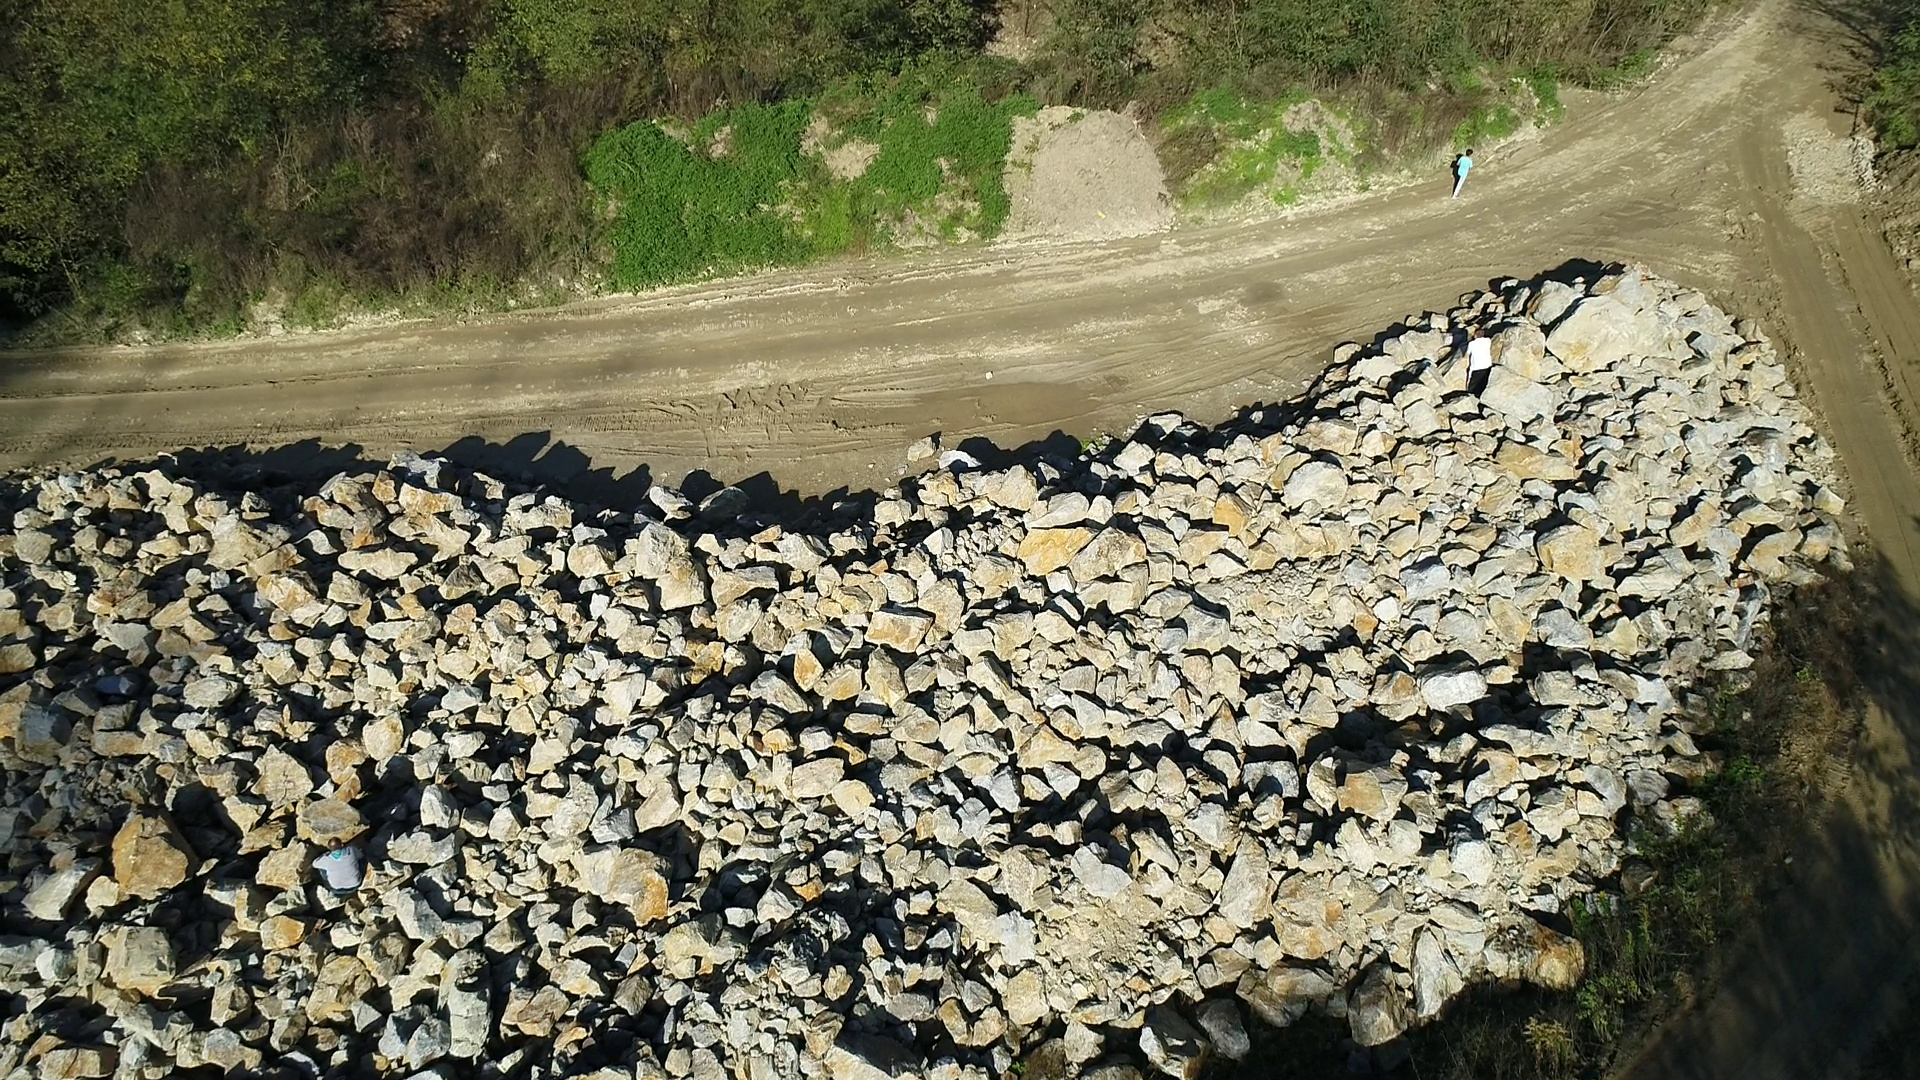person: (313, 836, 363, 897), (1465, 329, 1492, 397), (1449, 147, 1474, 200)
